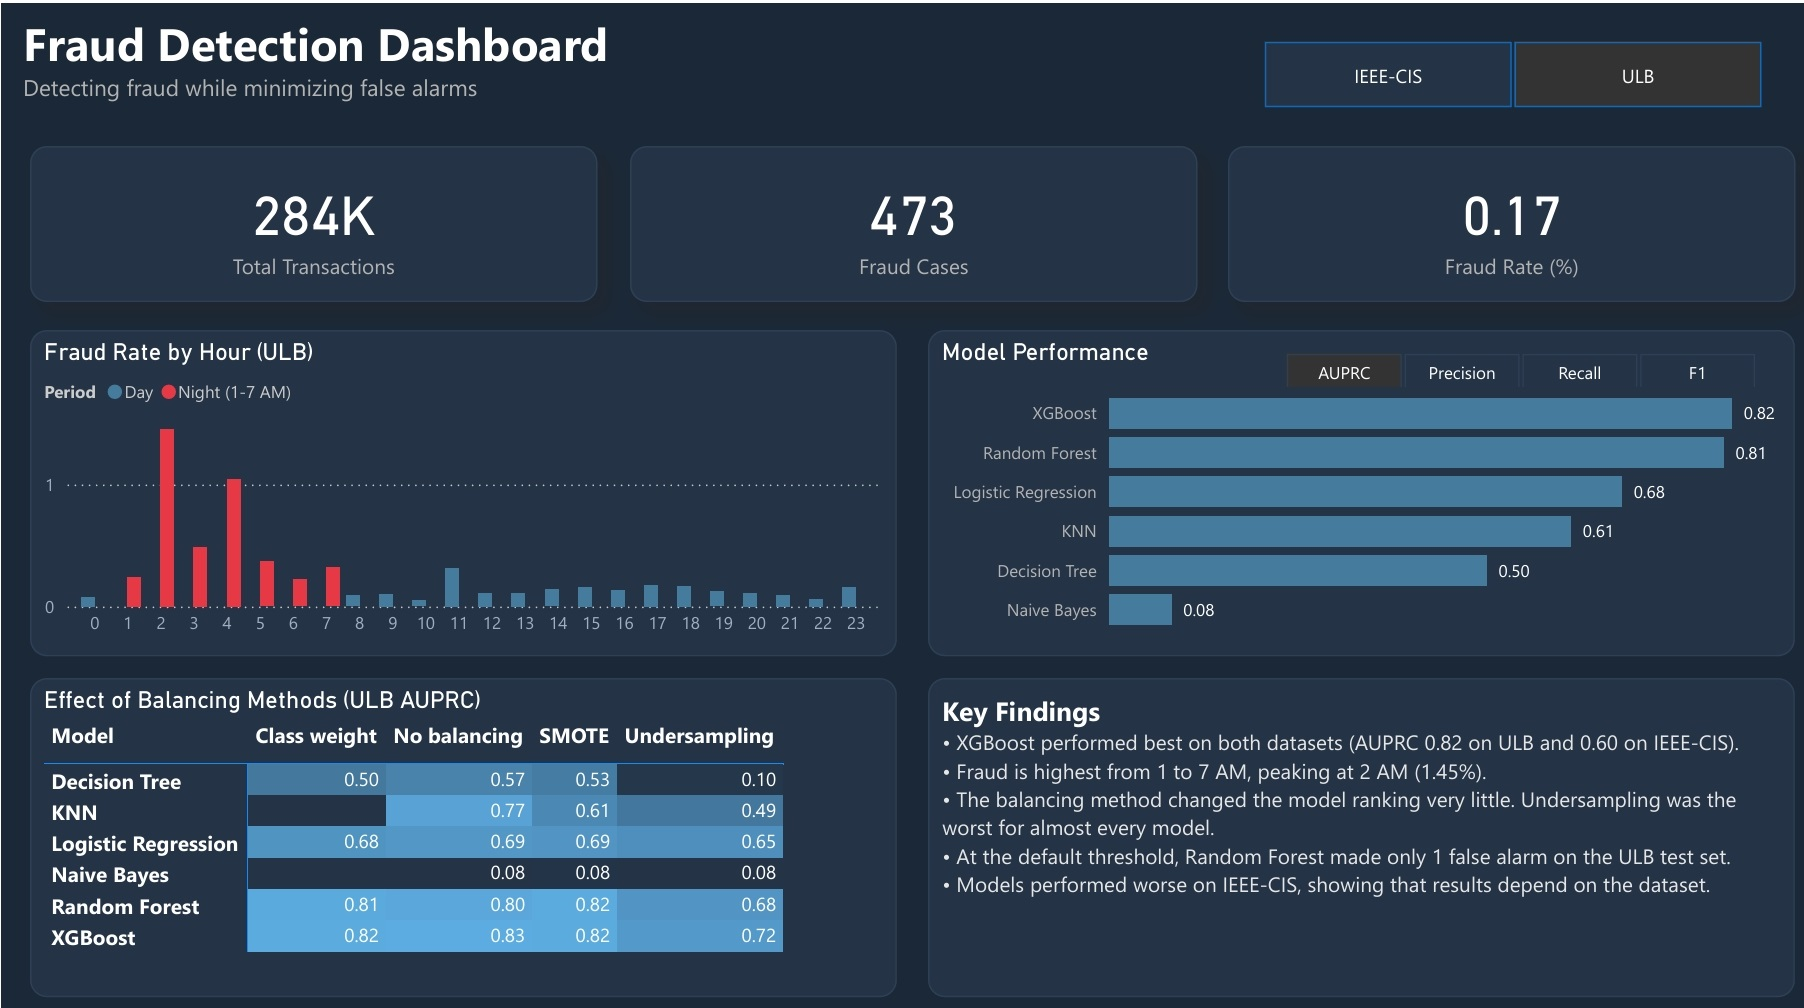

Layout of this report page (visuals, bound fields, positions):
{"tool":"powerbi","page":{"name":"Page 1","canvas":[1280,720],"ordinal":0},"visuals":[{"type":"textbox","box":[9.9,0,437,104.3],"z":0},{"type":"card","fields":{"Values":["Sum(pbi_summary.Transactions)"]},"box":[20,100,400,110],"z":1000},{"type":"card","fields":{"Values":["Avg(pbi_summary.Fraud Rate (%))"]},"box":[864,100,400,110],"z":2000},{"type":"card","fields":{"Values":["Sum(pbi_summary.Fraud)"]},"box":[442,100,400,110],"z":3000},{"type":"slicer","fields":{"Values":["pbi_summary.Dataset"]},"box":[864,20,400,60],"z":4000},{"type":"clusteredColumnChart","title":"Fraud Rate by Hour (ULB)","fields":{"Category":["pbi_fraud_by_hour.Hour"],"Y":["Sum(pbi_fraud_by_hour.Fraud Rate (%))"],"Series":["pbi_fraud_by_hour.Period"]},"box":[20,230,611,230],"z":5000},{"type":"clusteredBarChart","title":"Model Performance","fields":{"Category":["pbi_model_results.Model"],"Y":["pbi_model_results.F1 Score"]},"box":[653,230,611,230],"z":6000},{"type":"pivotTable","title":"Effect of Balancing Methods (ULB AUPRC)","fields":{"Rows":["pbi_balancing_results.Model"],"Columns":["pbi_balancing_results.Balancing"],"Values":["Avg(pbi_balancing_results.AUPRC)"]},"box":[20,475,611,225],"z":7000},{"type":"textbox","box":[653,475,611,225],"z":8000},{"type":"slicer","fields":{"Values":["Metric.Metric"]},"box":[880,240,380,30],"z":8001}]}

Visuals, with their boxes in screenshot pixels (x1, y1, x2, y2), scaled from the page's 1280x720 canvas onto the 1804x1008 screenshot:
textbox: l=14, t=0, r=630, b=146
card - Sum(pbi_summary.Transactions): l=28, t=140, r=592, b=294
card - Avg(pbi_summary.Fraud Rate (%)): l=1218, t=140, r=1781, b=294
card - Sum(pbi_summary.Fraud): l=623, t=140, r=1187, b=294
slicer - pbi_summary.Dataset: l=1218, t=28, r=1781, b=112
"Fraud Rate by Hour (ULB)" clusteredColumnChart: l=28, t=322, r=889, b=644
"Model Performance" clusteredBarChart: l=920, t=322, r=1781, b=644
"Effect of Balancing Methods (ULB AUPRC)" pivotTable: l=28, t=665, r=889, b=980
textbox: l=920, t=665, r=1781, b=980
slicer - Metric.Metric: l=1240, t=336, r=1776, b=378
